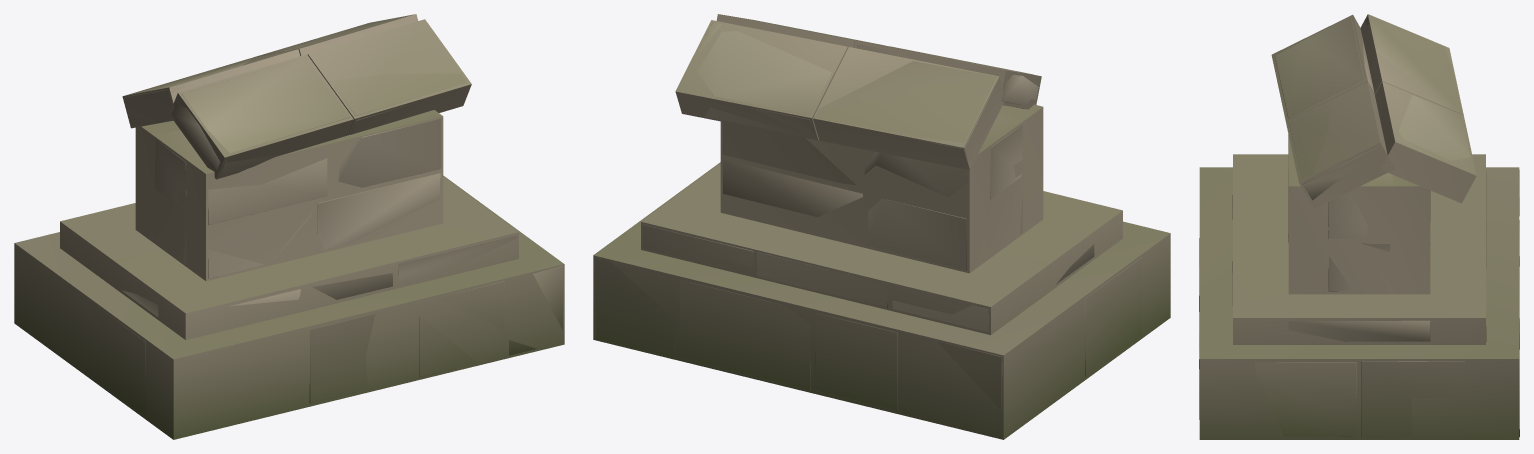
Rendered from tombs_sarcophagus.glb.
3 views of the same model, side by side, from view 1: azimuth 30°, elevation 25°; view 2: azimuth 150°, elevation 25°; view 3: azimuth 270°, elevation 25° (orthographic). The views are drawn at different scales.
Parts seen in each view (by area): view 1: tombs_sarcophagus_far, tombs_sarcophagus; view 2: tombs_sarcophagus_far, tombs_sarcophagus; view 3: tombs_sarcophagus_far, tombs_sarcophagus.
Part boxes in pixels (x1=…): tombs_sarcophagus_far: x1=14, y1=14, x2=564, y2=439; tombs_sarcophagus: x1=84, y1=14, x2=562, y2=416; tombs_sarcophagus_far: x1=593, y1=14, x2=1170, y2=439; tombs_sarcophagus: x1=595, y1=20, x2=1141, y2=415; tombs_sarcophagus_far: x1=1199, y1=14, x2=1519, y2=439; tombs_sarcophagus: x1=1199, y1=15, x2=1519, y2=437.
Bounding box in the file's own units: 12.22 × 8.1 × 8.62.
